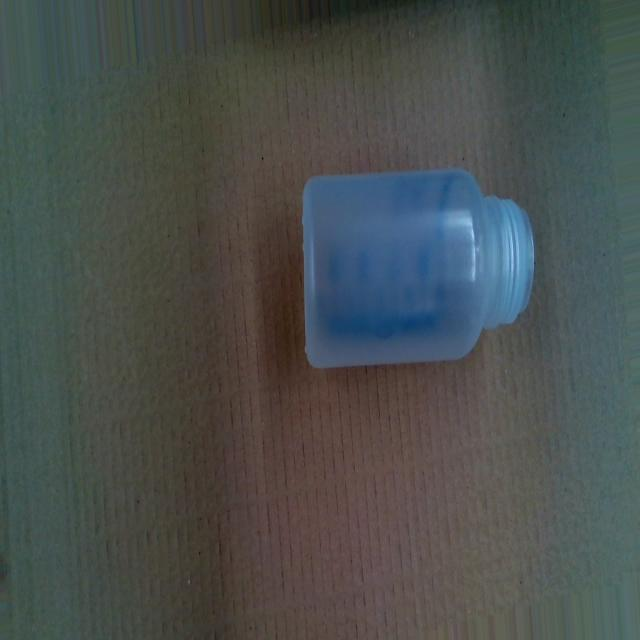bottle: (302, 170, 536, 376)
